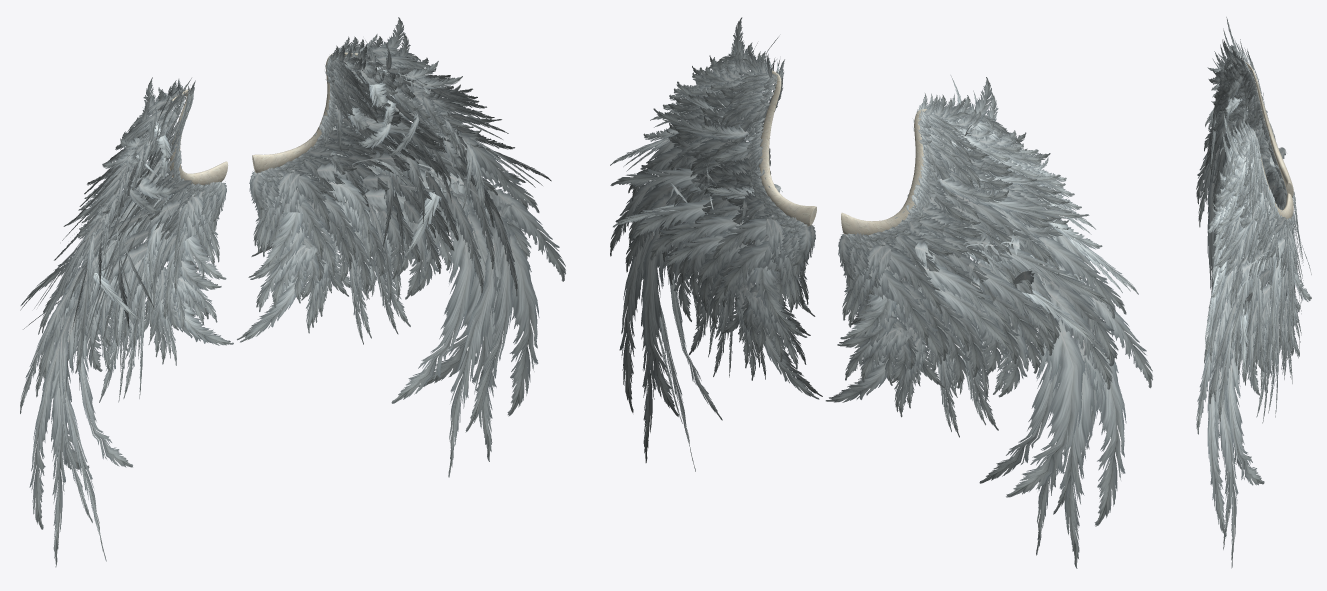
The model's file is Wings.fbx.
The picture shows the model from 3 angles, left to right: view 1: azimuth 30°, elevation 25°; view 2: azimuth 150°, elevation 25°; view 3: azimuth 270°, elevation 25°; orthographic projection. The views are drawn at different scales.
Visible parts, largest first — view 1: polySurface2197, polySurface2631; view 2: polySurface2631, polySurface2197; view 3: polySurface2197, polySurface2631.
Part boxes in pixels (<box>): polySurface2197: <box>237,17,565,477</box>; polySurface2631: <box>20,77,233,567</box>; polySurface2631: <box>825,75,1152,568</box>; polySurface2197: <box>610,17,822,471</box>; polySurface2197: <box>1196,111,1311,568</box>; polySurface2631: <box>1196,17,1311,348</box>.
Bounding box in the file's own units: 26.3 × 21.67 × 5.71.
2 materials, 2 textured.
